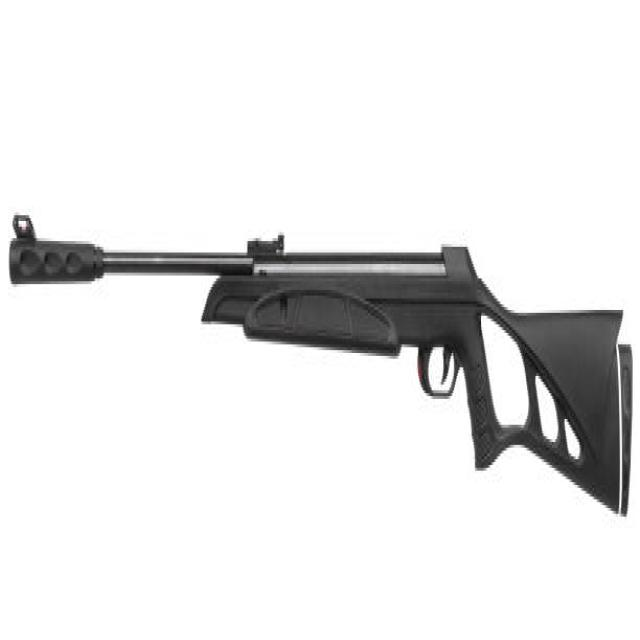rifle: (10, 184, 637, 574)
